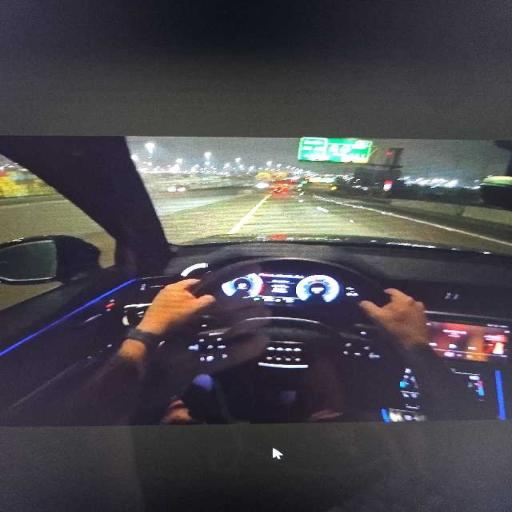car: (0, 137, 511, 425), (168, 185, 186, 192)
lane: (153, 189, 511, 253), (238, 193, 511, 253), (0, 199, 115, 266)
person: (360, 289, 475, 419)
